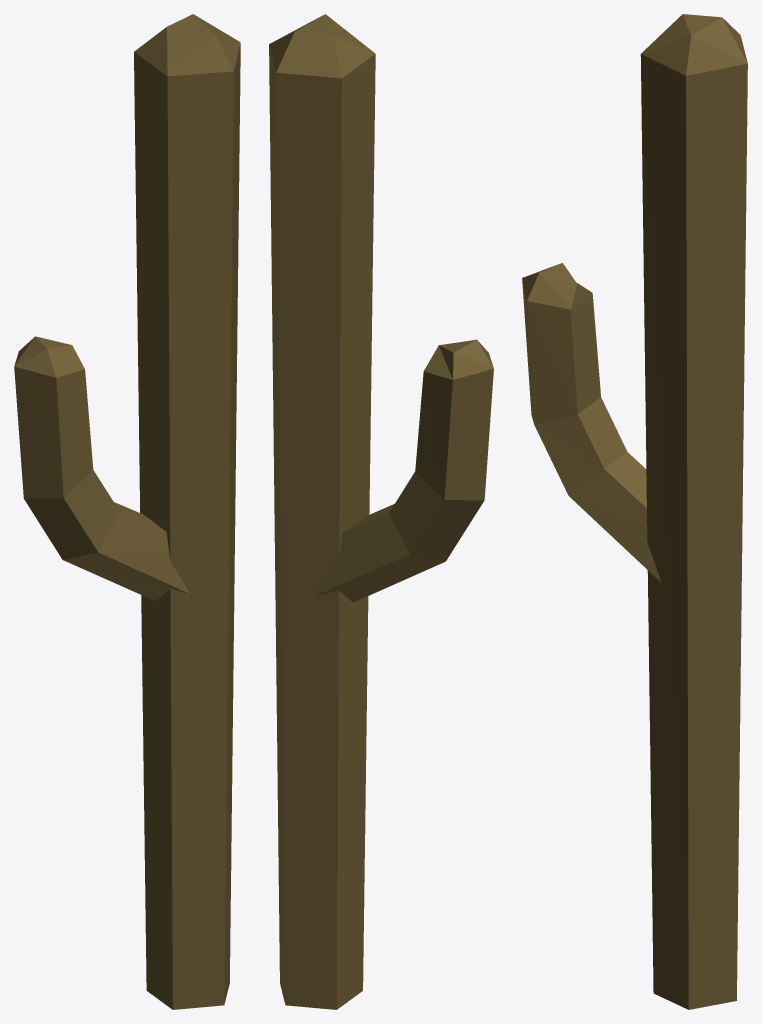
The model's file is ADDON_CANYONPLANT_CACTUSLONG_01_58P.OBJ.
The picture shows the model from 3 angles, left to right: view 1: azimuth 30°, elevation 25°; view 2: azimuth 150°, elevation 25°; view 3: azimuth 330°, elevation 25°; orthographic projection.
Visible parts, largest first — view 1: ADDON_CANYONPLANT_CACTUSLONG_01_58P; view 2: ADDON_CANYONPLANT_CACTUSLONG_01_58P; view 3: ADDON_CANYONPLANT_CACTUSLONG_01_58P.
Part boxes in pixels (<box>): ADDON_CANYONPLANT_CACTUSLONG_01_58P: <box>14,14,240,1009</box>; ADDON_CANYONPLANT_CACTUSLONG_01_58P: <box>269,14,493,1009</box>; ADDON_CANYONPLANT_CACTUSLONG_01_58P: <box>522,14,747,1009</box>.
Bounding box in the file's own units: 0.7826 × 3.2 × 0.3286.
